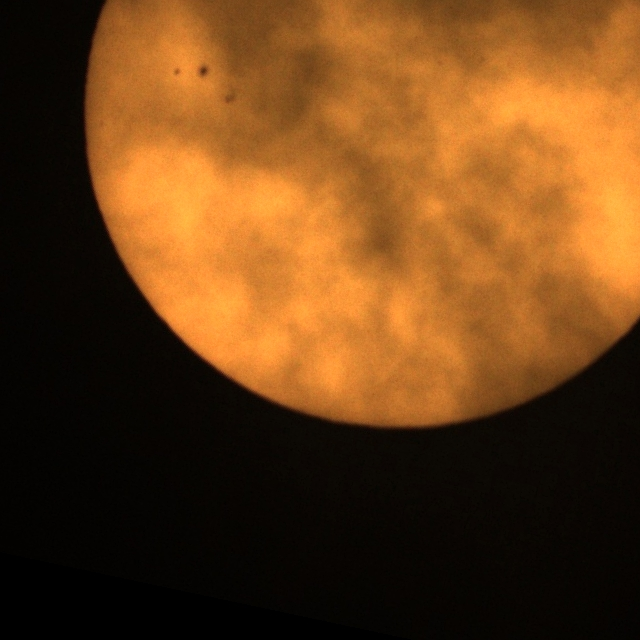sunspot: (172, 64, 210, 80), (196, 64, 210, 80), (173, 67, 182, 77)
